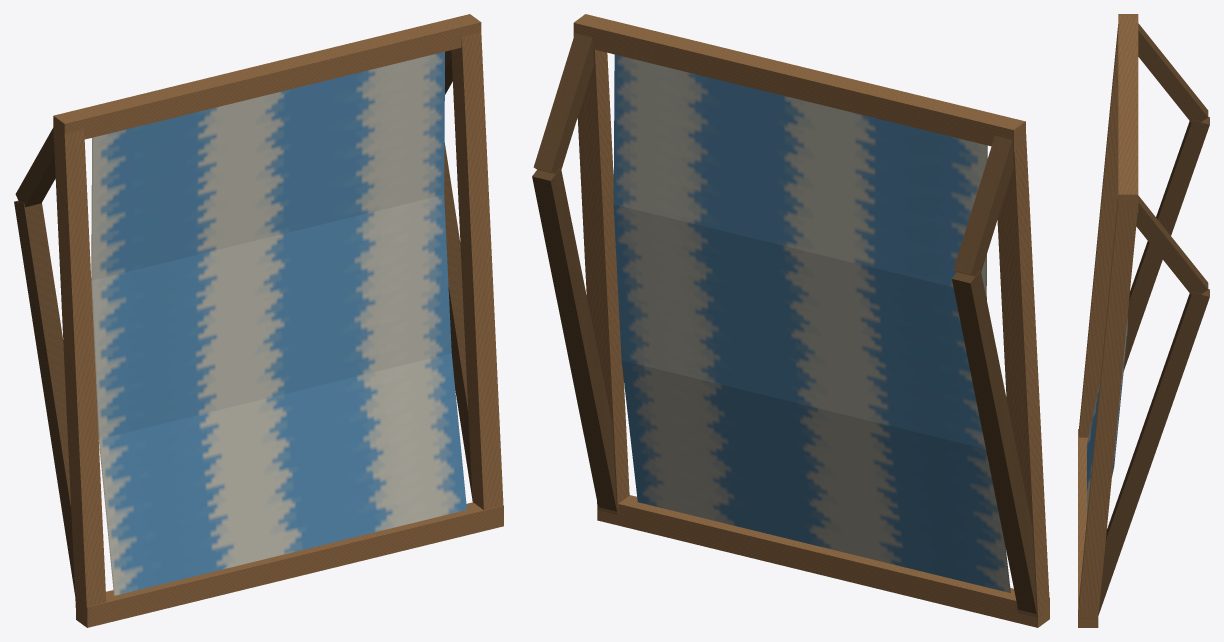
The model's file is pz_g021_beach_chair_seat.obj.
3 renders of one model, left to right at view 1: azimuth 30°, elevation 25°; view 2: azimuth 150°, elevation 25°; view 3: azimuth 270°, elevation 25°, orthographic. The views are drawn at different scales.
Visible parts, largest first — view 1: pz_g021_beach_chair_seat; view 2: pz_g021_beach_chair_seat; view 3: pz_g021_beach_chair_seat.
Boxes of the visible parts, x1,y1,x2,y2 form: pz_g021_beach_chair_seat: [14, 14, 503, 627]; pz_g021_beach_chair_seat: [532, 14, 1049, 627]; pz_g021_beach_chair_seat: [1078, 14, 1209, 627].
Size of the model in its own units: 0.85 by 0.95 by 0.2622.
1 material, 1 textured.
